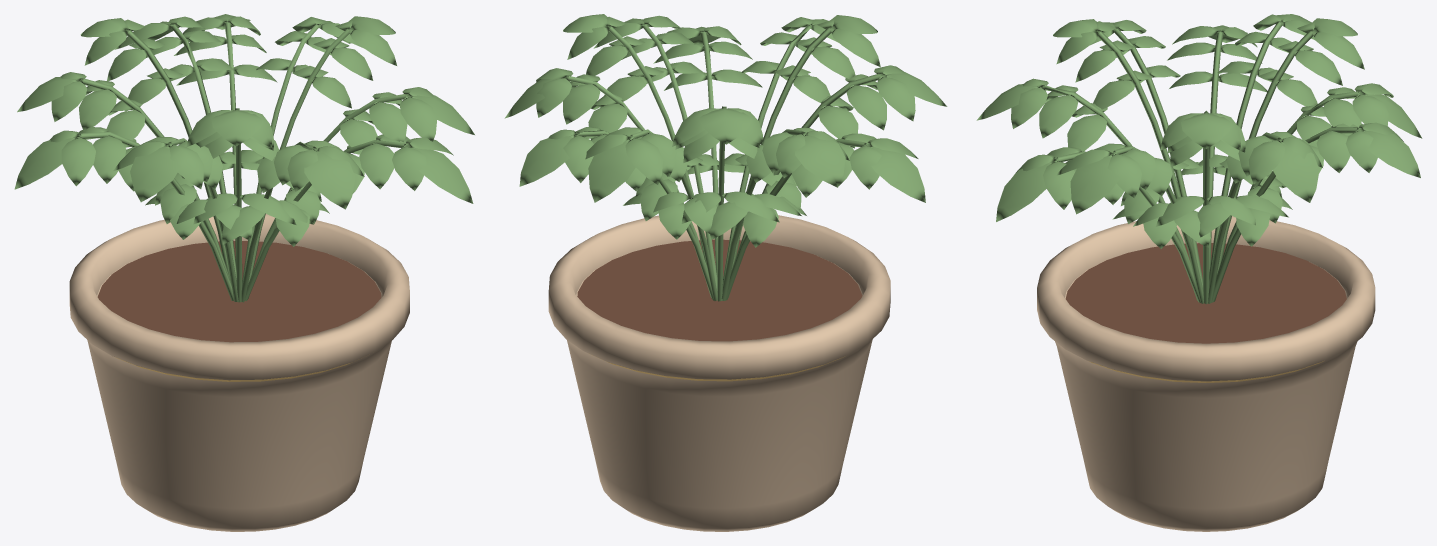
Rendered from world07-decor-v1.glb.
3 renders of one model, left to right at view 1: azimuth 30°, elevation 25°; view 2: azimuth 150°, elevation 25°; view 3: azimuth 270°, elevation 25°, orthographic.
Parts seen in each view (by area): view 1: home-potted-fern-clay, home-potted-fern-leaf_sage, home-potted-fern-leather; view 2: home-potted-fern-clay, home-potted-fern-leaf_sage, home-potted-fern-leather; view 3: home-potted-fern-clay, home-potted-fern-leaf_sage, home-potted-fern-leather.
Part boxes in pixels (bbox=[...]): home-potted-fern-clay: bbox=[69, 214, 409, 531]; home-potted-fern-leaf_sage: bbox=[14, 14, 474, 302]; home-potted-fern-leather: bbox=[97, 241, 381, 342]; home-potted-fern-clay: bbox=[548, 215, 890, 531]; home-potted-fern-leaf_sage: bbox=[504, 14, 947, 301]; home-potted-fern-leather: bbox=[577, 239, 862, 341]; home-potted-fern-clay: bbox=[1037, 216, 1375, 531]; home-potted-fern-leaf_sage: bbox=[976, 14, 1422, 304]; home-potted-fern-leather: bbox=[1065, 243, 1346, 343].
Size of the model in its own units: 1.83 by 1.98 by 1.85.
